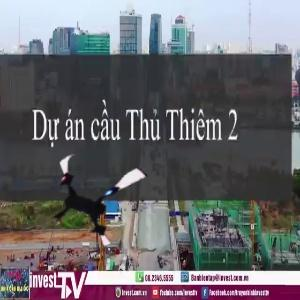drone: (43, 143, 153, 253)
